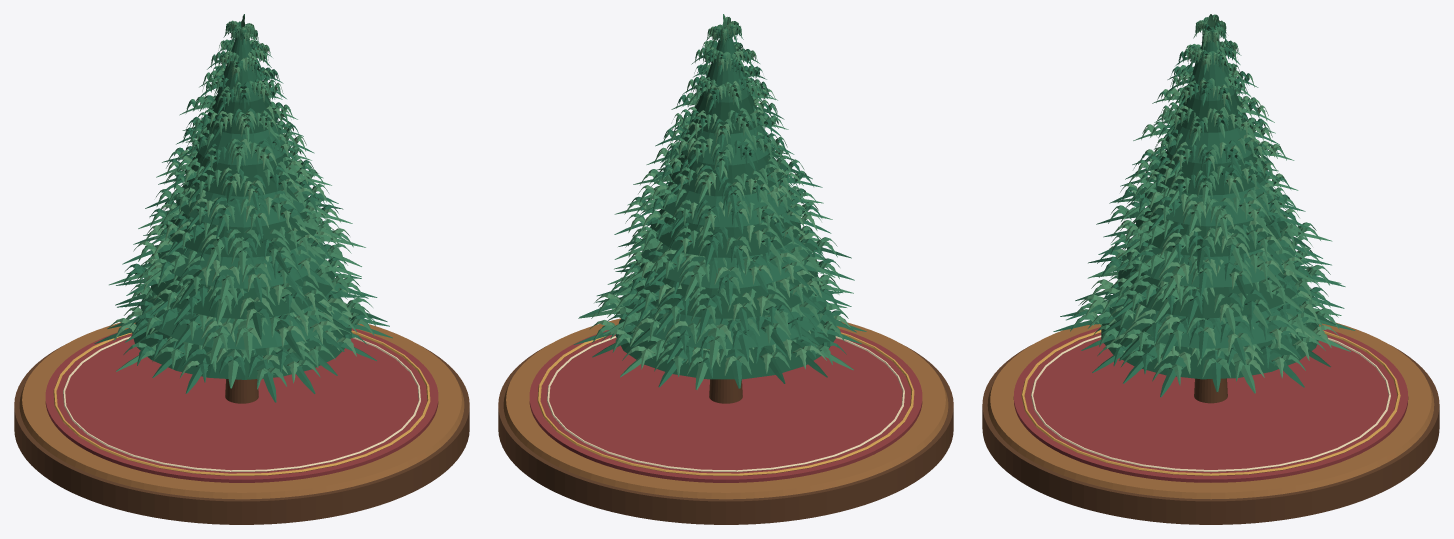
The model's file is Evergreen.glb.
The picture shows the model from 3 angles, left to right: view 1: azimuth 30°, elevation 25°; view 2: azimuth 150°, elevation 25°; view 3: azimuth 270°, elevation 25°; orthographic projection.
Parts seen in each view (by area): view 1: Evergreen_mesh; view 2: Evergreen_mesh; view 3: Evergreen_mesh.
Part boxes in pixels (x1,y1,x2,y2): Evergreen_mesh: [14, 14, 469, 524]; Evergreen_mesh: [498, 14, 953, 524]; Evergreen_mesh: [982, 14, 1439, 524].
Bounding box in the file's own units: 3.5 × 3.51 × 3.5.
